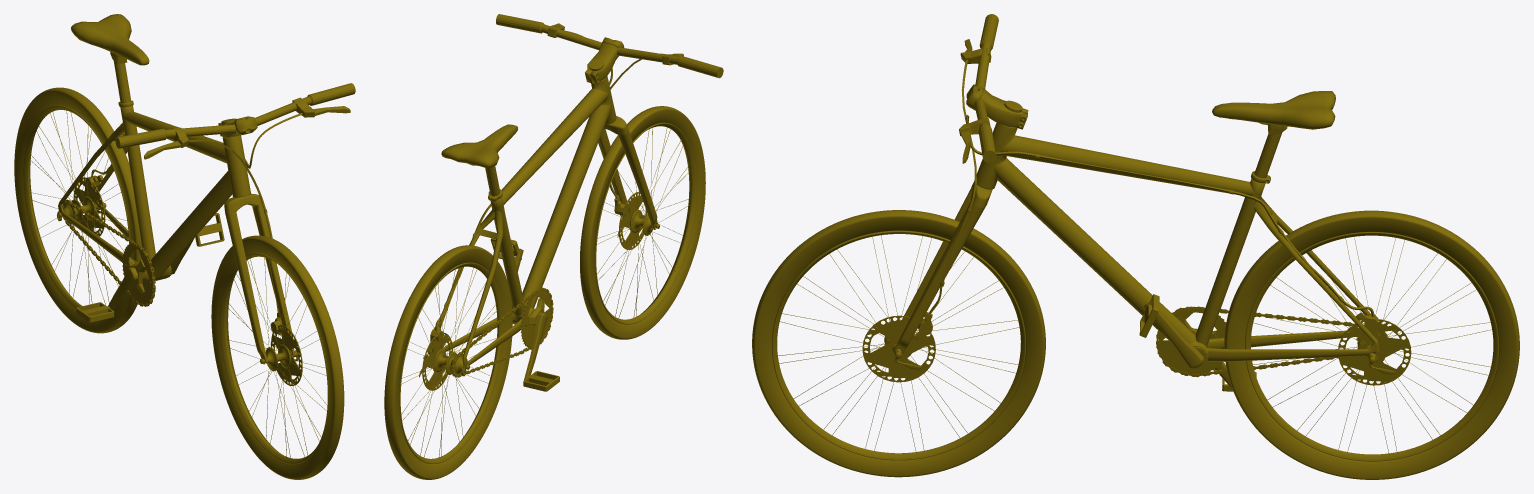
File: Commuter-Disassembled.FBX
The picture shows the model from 3 angles, left to right: view 1: azimuth 30°, elevation 25°; view 2: azimuth 150°, elevation 25°; view 3: azimuth 270°, elevation 25°; orthographic projection. The views are drawn at different scales.
Visible parts, largest first — view 1: Frame, Tyre001, Tyre, WheelFront, WheelRear, Fork, Handlebar, Saddle, Crank_Drive, Chain, Pedal (×2), Seatpost (+4 smaller); view 2: Frame, Tyre, Tyre001, WheelFront, WheelRear, Handlebar, Fork, Saddle, Crank_Drive, Chain, Stem, Pedal (+1 smaller); view 3: Frame, Tyre, Tyre001, WheelFront, WheelRear, Fork, Saddle, Handlebar, Crank_Drive, BrakeCableRear, Chain, Stem (+1 smaller).
Boxes of the visible parts, left/top/right/bottom form: Frame: left=57, top=105, right=250, bottom=282; Tyre001: left=211, top=235, right=344, bottom=479; Tyre: left=14, top=87, right=141, bottom=333; WheelFront: left=219, top=253, right=328, bottom=463; WheelRear: left=23, top=105, right=129, bottom=308; Fork: left=224, top=193, right=295, bottom=364; Handlebar: left=115, top=83, right=355, bottom=148; Saddle: left=71, top=14, right=149, bottom=65; Crank_Drive: left=108, top=243, right=154, bottom=310; Chain: left=62, top=200, right=155, bottom=306; Pedal (×2): left=76, top=213, right=224, bottom=322; Seatpost: left=110, top=52, right=131, bottom=103; Frame: left=429, top=76, right=616, bottom=376; Tyre: left=384, top=245, right=512, bottom=479; Tyre001: left=580, top=106, right=705, bottom=339; WheelFront: left=595, top=122, right=697, bottom=324; WheelRear: left=399, top=262, right=503, bottom=463; Handlebar: left=496, top=14, right=723, bottom=78; Fork: left=598, top=116, right=657, bottom=229; Saddle: left=441, top=124, right=517, bottom=167; Crank_Drive: left=520, top=288, right=551, bottom=380; Chain: left=451, top=287, right=553, bottom=377; Stem: left=585, top=37, right=624, bottom=84; Pedal: left=523, top=371, right=559, bottom=391; Frame: left=974, top=122, right=1378, bottom=361; Tyre: left=1224, top=210, right=1519, bottom=479; Tyre001: left=752, top=210, right=1045, bottom=477; WheelFront: left=772, top=230, right=1026, bottom=460; WheelRear: left=1245, top=232, right=1499, bottom=461; Fork: left=893, top=181, right=992, bottom=354; Saddle: left=1212, top=91, right=1335, bottom=129; Handlebar: left=974, top=14, right=998, bottom=162; Crank_Drive: left=1158, top=306, right=1232, bottom=388; BrakeCableRear: left=965, top=115, right=1374, bottom=316; Chain: left=1156, top=306, right=1387, bottom=377; Stem: left=966, top=84, right=1028, bottom=129.
Size of the model in its own units: 5.33 by 7.27 by 12.83.
